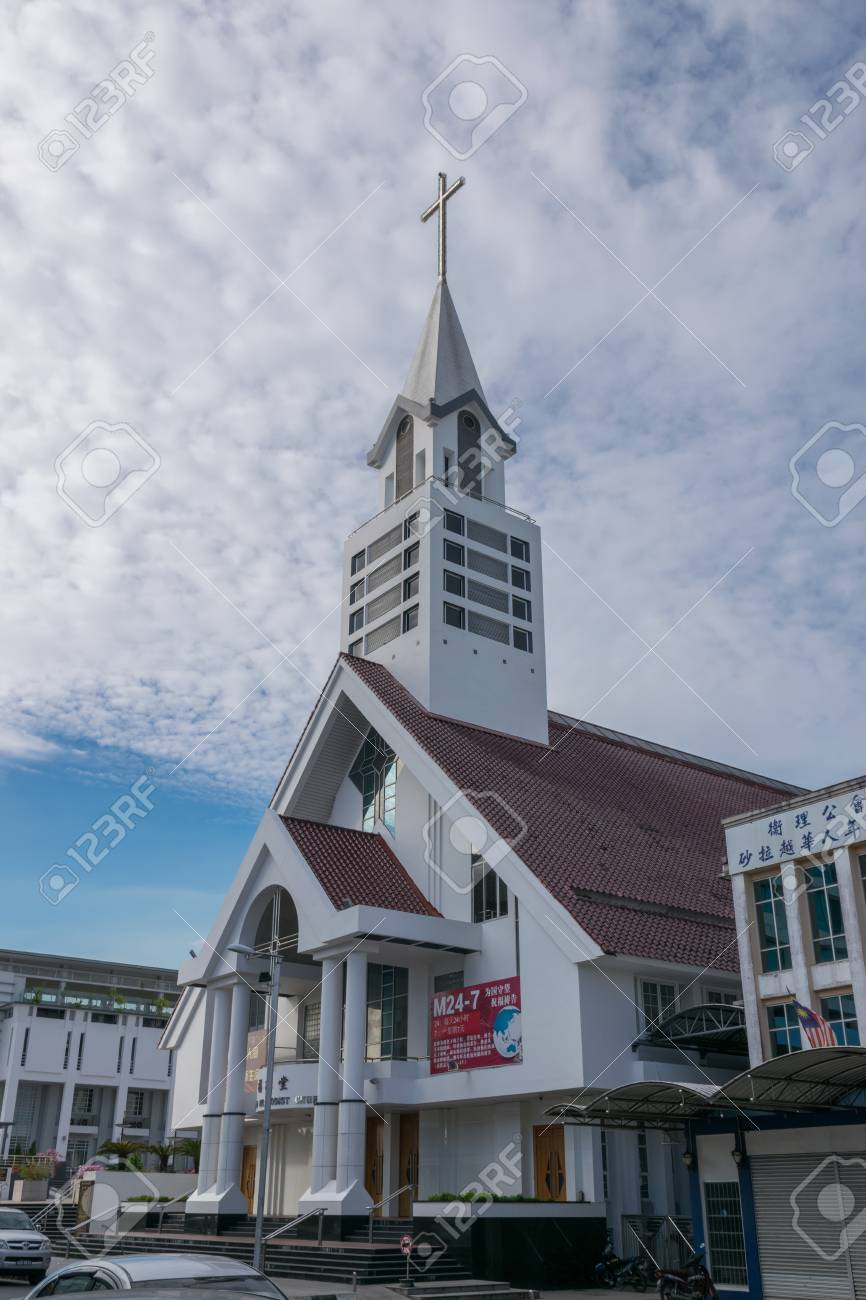Church: (161, 159, 743, 1156)
